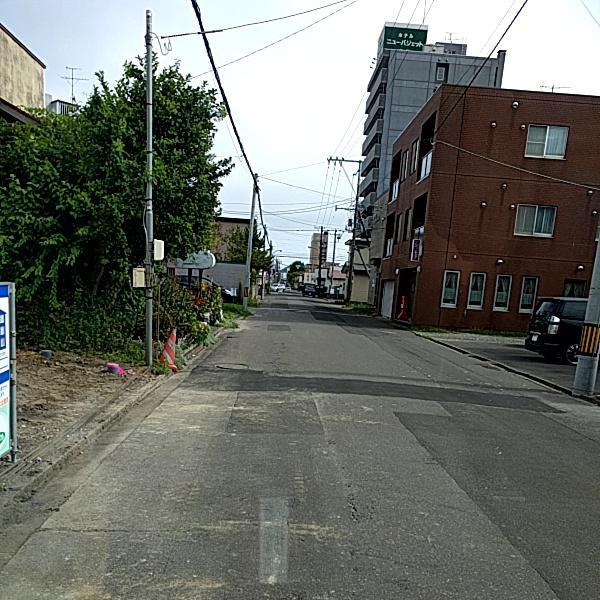D10: (41, 524, 181, 540)
